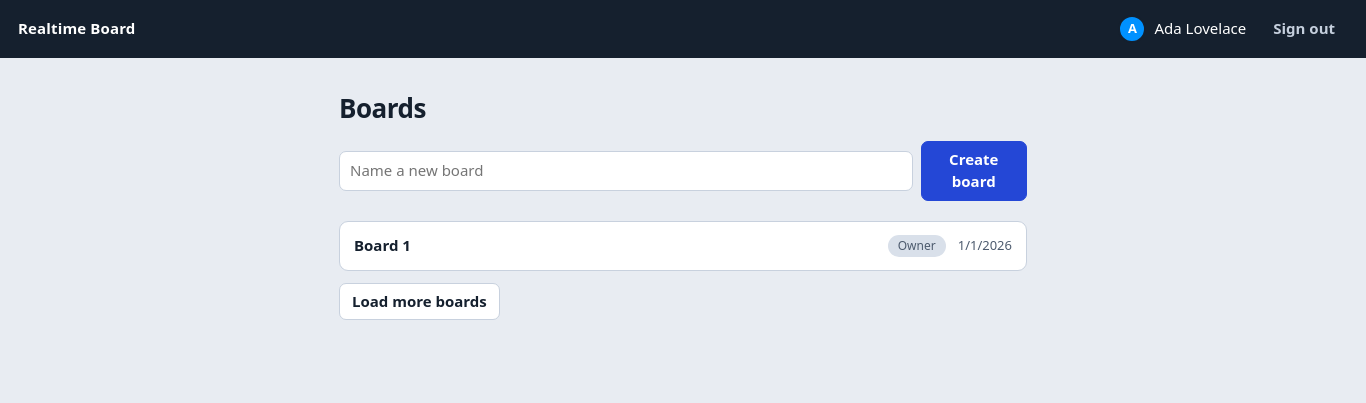
BoardsPage paging › loads the next page on request, appends it and hides the button after the last page
Expected: the link "Board 1" is shown, [354,235,411,255]
Click the button "Load more boards" at [419, 302], box [339,283,500,320]
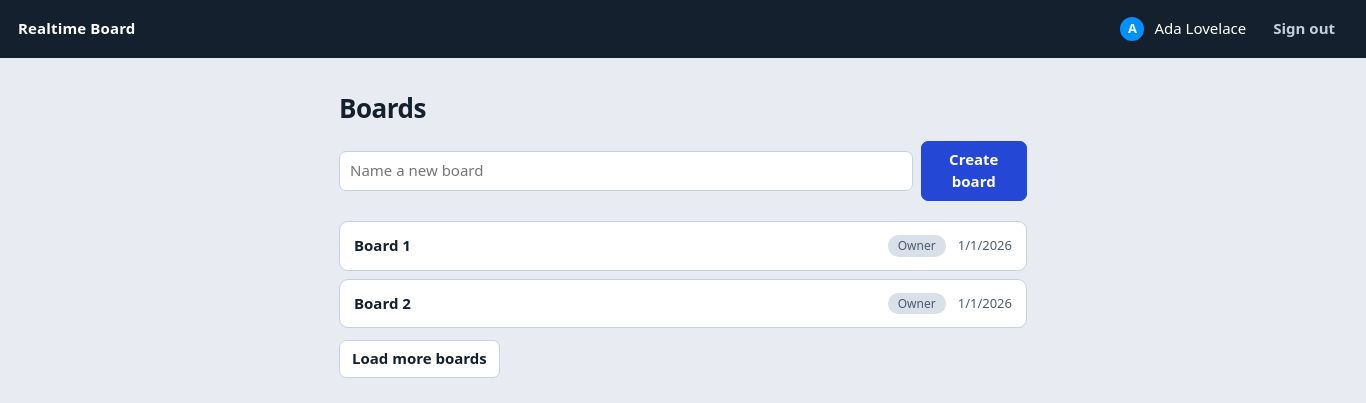
Expected: the link "Board 1" is shown, [354,235,411,255]
Result: the link "Board 2" is shown at [354,293,411,313]
Click the button "Load more boards" at [419, 359], box [339,340,500,378]
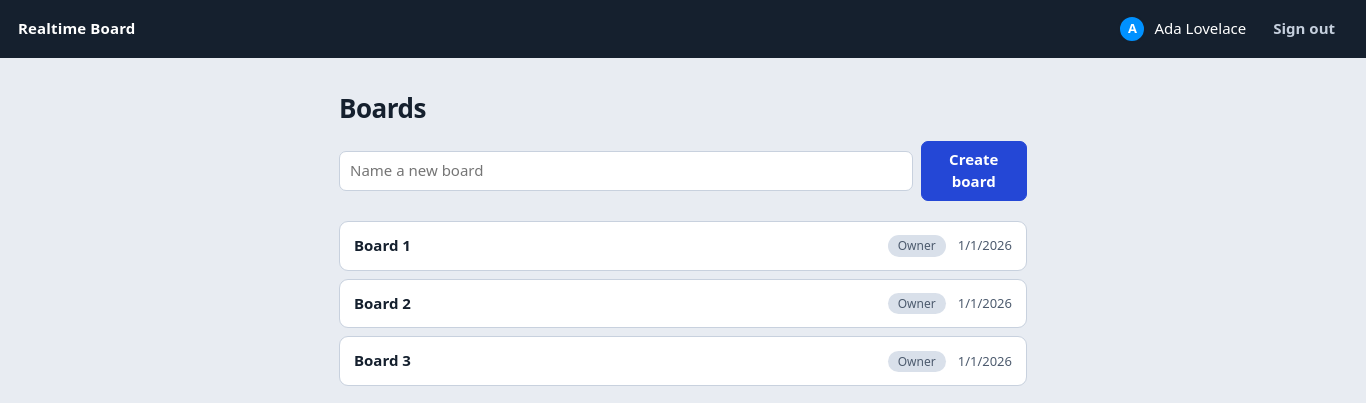
Result: the link "Board 3" is shown at [354,350,411,370]
Result: the button "Load more" is gone
